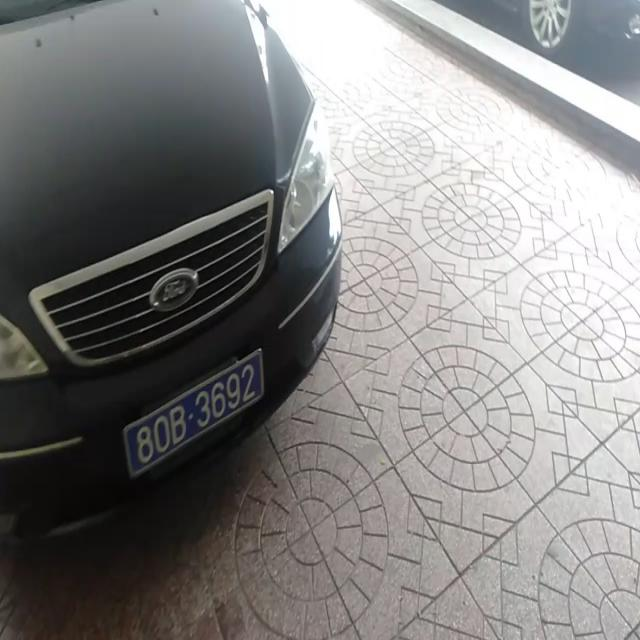bien_xanh: (120, 358, 266, 477)
